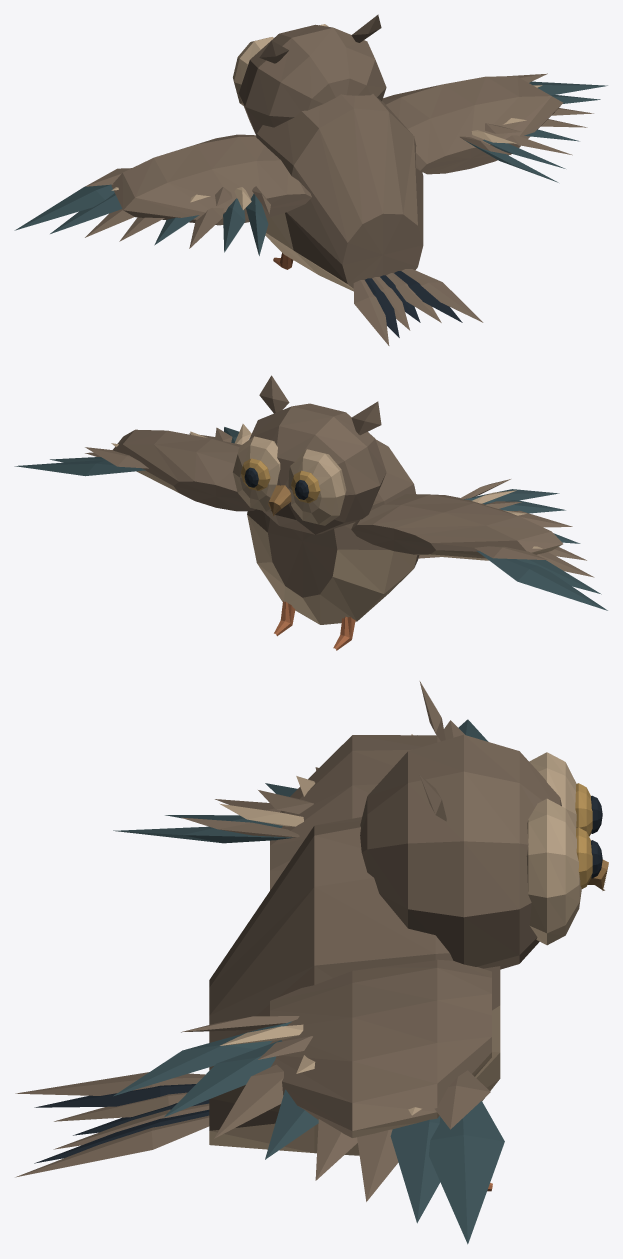
Rendered from owl.glb.
3 views of the same model, one above another, from view 1: azimuth 30°, elevation 25°; view 2: azimuth 150°, elevation 25°; view 3: azimuth 270°, elevation 25° (orthographic). The views are drawn at different scales.
Parts seen in each view (by area): view 1: Body, WingL, WingR, Head, Tail; view 2: Head, WingL, Body, WingR; view 3: WingR, Head, Body, WingL, Tail.
Boxes of the visible parts, x1,y1,x2,y2 form: Body: (256,94,423,291); WingL: (14,134,311,255); WingR: (382,73,607,182); Head: (233,14,386,135); Tail: (353,269,483,345); Head: (233,375,386,534); WingL: (351,479,607,610); Body: (247,439,419,650); WingR: (14,424,255,511); WingR: (113,959,504,1244); Head: (360,681,608,969); Body: (209,817,500,1191); WingL: (113,719,488,890); Tail: (15,1072,209,1177).
Bounding box in the file's own units: 1.54 × 0.5978 × 0.7367.
